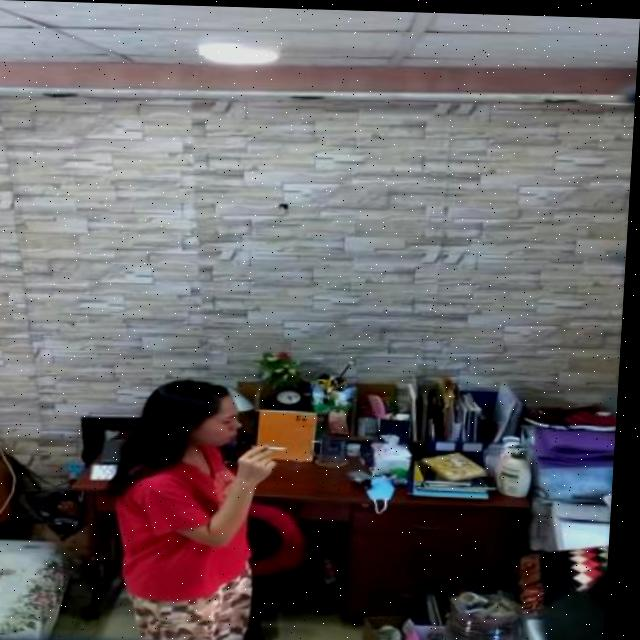cigarette: (273, 444, 294, 448)
